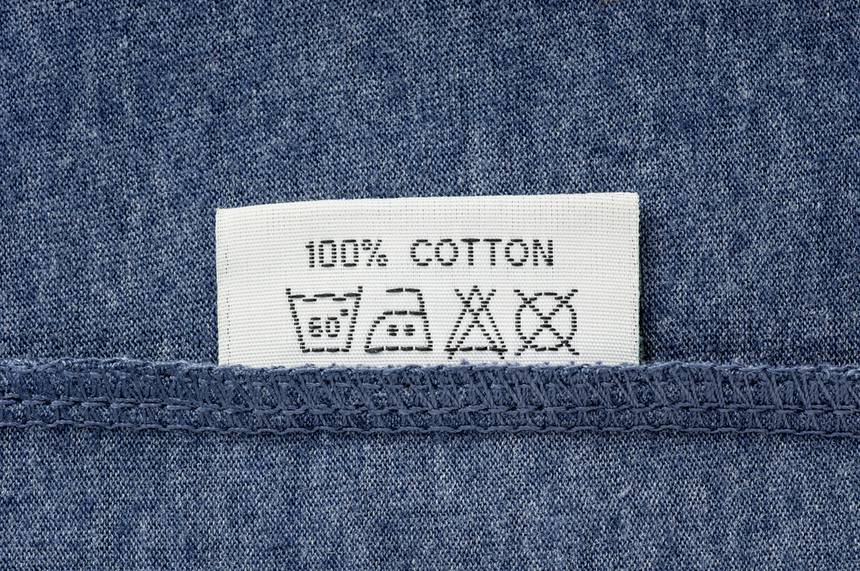do_not_bleach: (441, 281, 508, 360)
do_not_dry_clean: (512, 287, 580, 356)
